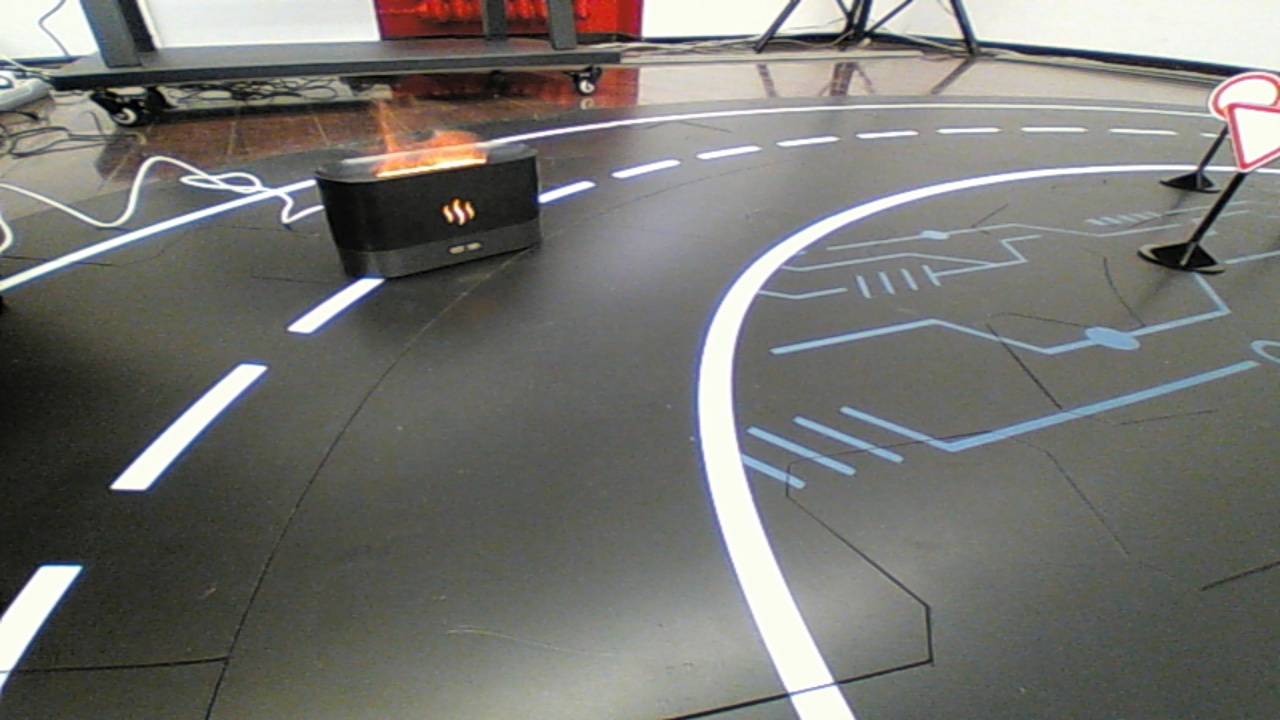Movement prohibition: (297, 122, 556, 289)
